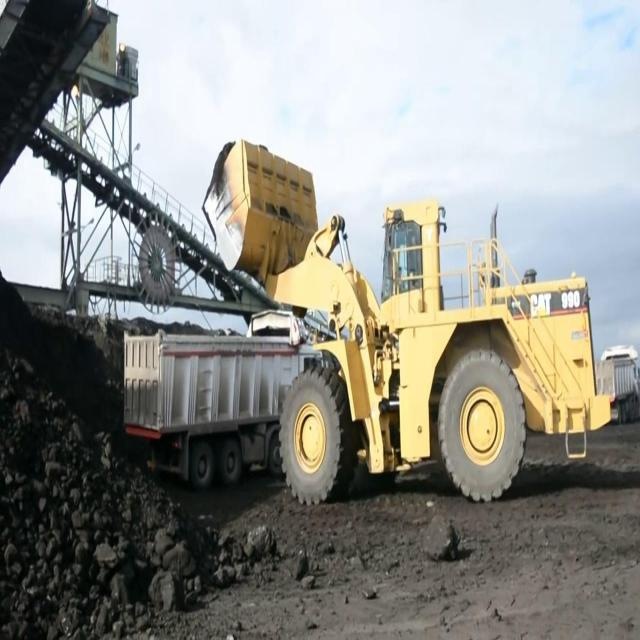buldozerpayloadergrader: (200, 127, 614, 509)
dump_truck: (120, 274, 322, 489)
